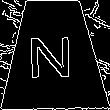N_N: (30, 29, 78, 80)
